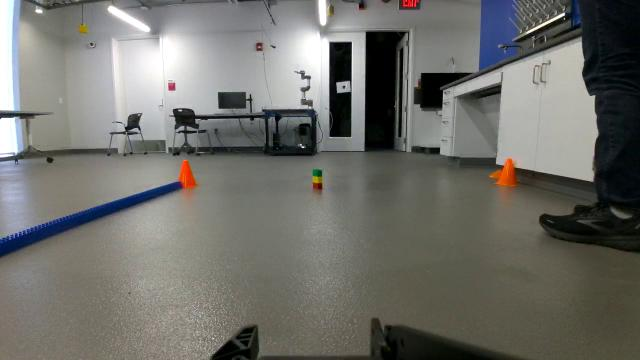lego: (309, 163, 327, 197)
